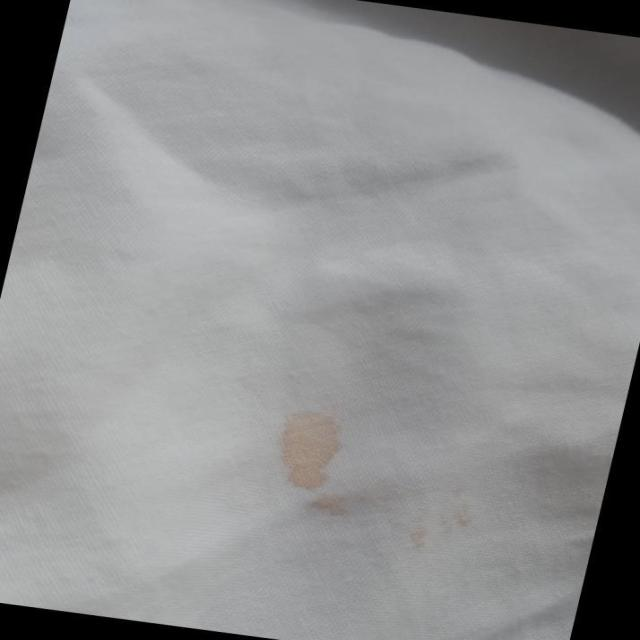stain: (258, 401, 386, 525), (383, 477, 494, 559)
